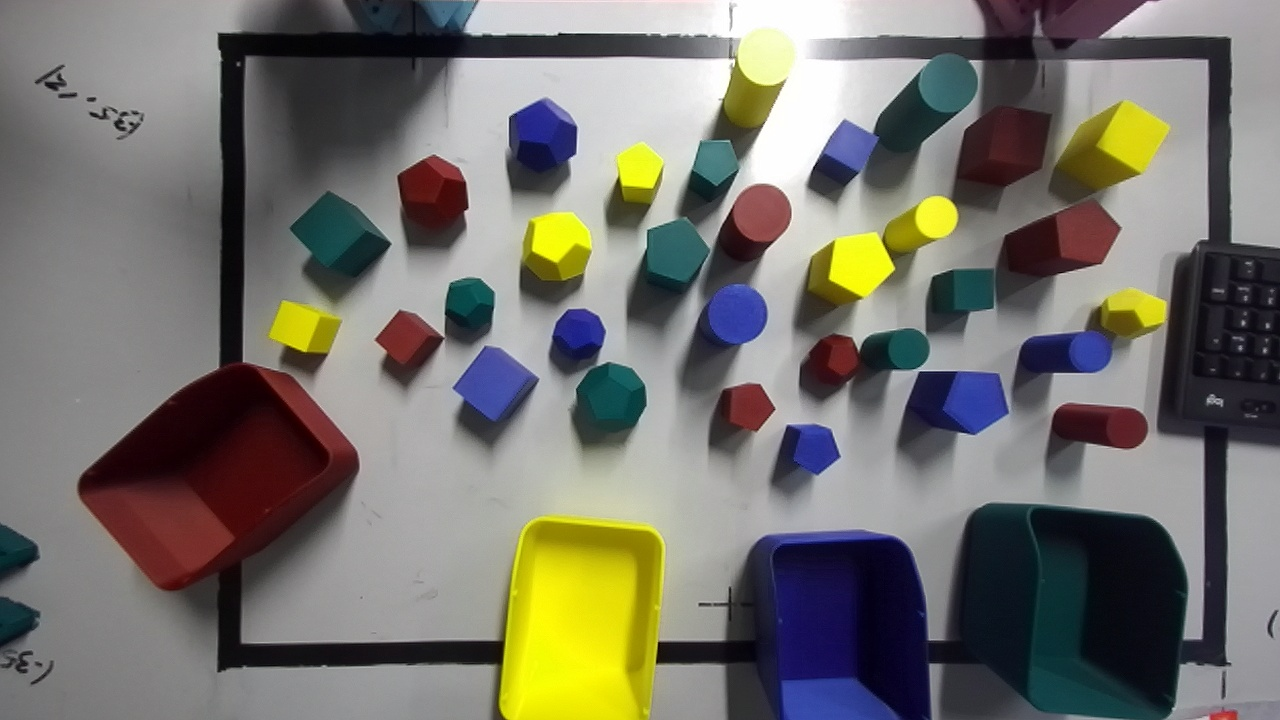bin: (77, 365, 357, 588), (961, 503, 1187, 719), (749, 531, 929, 719), (499, 516, 664, 719)
cube: (1055, 100, 1169, 188), (289, 191, 390, 276), (957, 106, 1050, 185), (453, 345, 538, 421), (814, 120, 878, 184), (375, 310, 443, 365), (269, 301, 340, 353), (930, 269, 994, 311)
cylinder: (873, 54, 977, 151), (722, 29, 795, 127), (717, 184, 791, 260), (1052, 402, 1147, 448), (882, 196, 957, 253), (697, 284, 767, 344), (1019, 331, 1111, 372), (860, 328, 929, 370)
dodecahedron: (397, 155, 467, 228), (509, 98, 577, 171), (576, 362, 646, 430), (522, 212, 590, 280), (1100, 288, 1166, 337), (552, 309, 605, 358), (807, 334, 860, 383), (445, 277, 494, 329)
hexagonal: (1003, 199, 1120, 276), (906, 371, 1008, 434), (806, 232, 894, 303), (645, 218, 709, 290), (689, 139, 738, 200), (781, 424, 839, 474), (616, 142, 663, 203), (717, 383, 775, 430)
